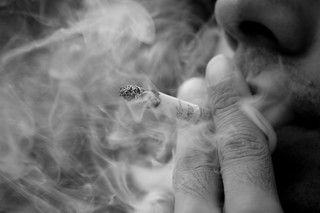cigarette: (116, 81, 214, 126)
